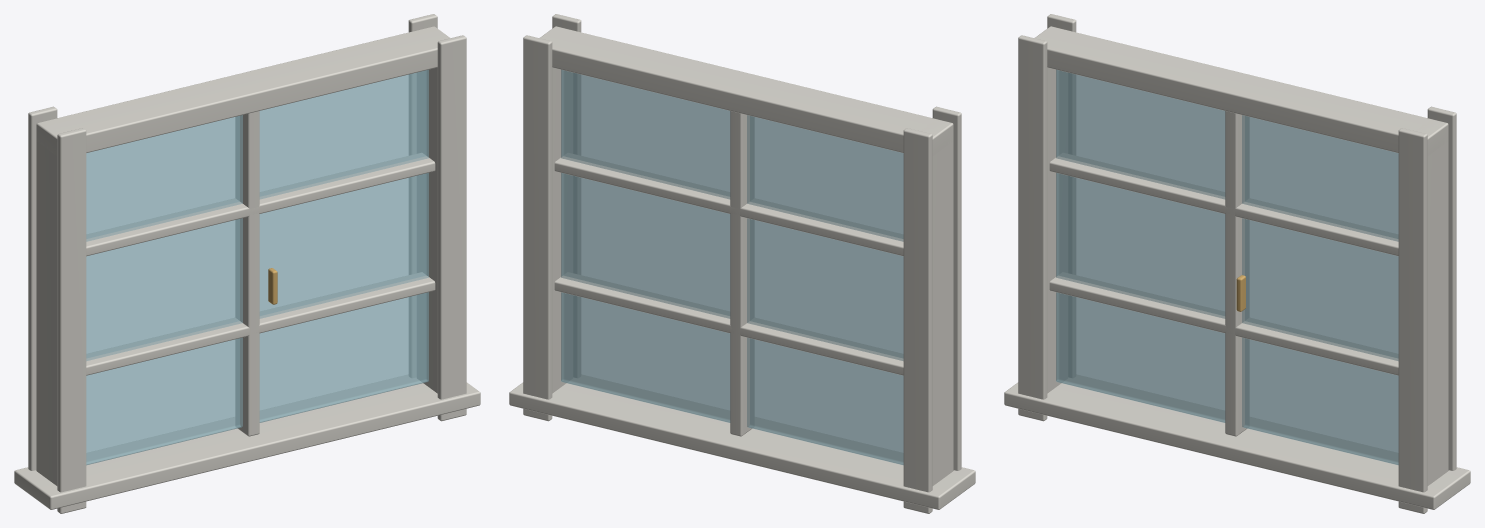
File: window-grid.glb
3 renders of one model, left to right at view 1: azimuth 30°, elevation 25°; view 2: azimuth 150°, elevation 25°; view 3: azimuth 330°, elevation 25°, orthographic.
Parts seen in each view (by area): view 1: Glazing.005, Sill.005, Lintel.015, Architrave.062, Architrave.060, Jamb.030, Mullion.004, Transom.003, Transom.002, Jamb.031, Architrave.061, Architrave.063; view 2: Glazing.005, Sill.005, Lintel.015, Architrave.063, Architrave.061, Jamb.030, Mullion.004, Transom.003, Transom.002, Jamb.031, Architrave.060, Architrave.062; view 3: Glazing.005, Sill.005, Lintel.015, Architrave.060, Architrave.062, Jamb.031, Transom.003, Transom.002, Mullion.004, Jamb.030, Architrave.063, Architrave.061.
Boxes of the visible parts, x1=… form: Glazing.005: x1=86, y1=69, x2=428, y2=465; Sill.005: x1=14, y1=375, x2=480, y2=509; Lintel.015: x1=36, y1=26, x2=449, y2=155; Architrave.062: x1=437, y1=35, x2=466, y2=421; Architrave.060: x1=57, y1=128, x2=86, y2=513; Jamb.030: x1=36, y1=119, x2=67, y2=485; Mullion.004: x1=235, y1=111, x2=259, y2=436; Transom.003: x1=86, y1=153, x2=435, y2=256; Transom.002: x1=86, y1=272, x2=435, y2=375; Jamb.031: x1=417, y1=67, x2=437, y2=393; Architrave.061: x1=28, y1=106, x2=57, y2=470; Architrave.063: x1=408, y1=14, x2=437, y2=377; Glazing.005: x1=561, y1=69, x2=903, y2=465; Sill.005: x1=509, y1=375, x2=975, y2=509; Lintel.015: x1=539, y1=26, x2=953, y2=155; Architrave.063: x1=523, y1=35, x2=552, y2=421; Architrave.061: x1=903, y1=128, x2=932, y2=513; Jamb.030: x1=921, y1=119, x2=953, y2=485; Mullion.004: x1=730, y1=111, x2=754, y2=436; Transom.003: x1=554, y1=153, x2=903, y2=256; Transom.002: x1=554, y1=272, x2=903, y2=375; Jamb.031: x1=552, y1=67, x2=572, y2=393; Architrave.060: x1=932, y1=106, x2=961, y2=470; Architrave.062: x1=552, y1=14, x2=581, y2=377; Glazing.005: x1=1056, y1=69, x2=1398, y2=465; Sill.005: x1=1004, y1=375, x2=1470, y2=509; Lintel.015: x1=1034, y1=26, x2=1448, y2=155; Architrave.060: x1=1018, y1=35, x2=1047, y2=421; Architrave.062: x1=1398, y1=128, x2=1427, y2=513; Jamb.031: x1=1416, y1=119, x2=1448, y2=485; Transom.003: x1=1049, y1=153, x2=1398, y2=256; Transom.002: x1=1049, y1=272, x2=1398, y2=375; Mullion.004: x1=1225, y1=111, x2=1249, y2=436; Jamb.030: x1=1047, y1=67, x2=1067, y2=393; Architrave.063: x1=1427, y1=106, x2=1456, y2=470; Architrave.061: x1=1047, y1=14, x2=1076, y2=377.
Size of the model in its own units: 1.62 by 1.36 by 0.24.
